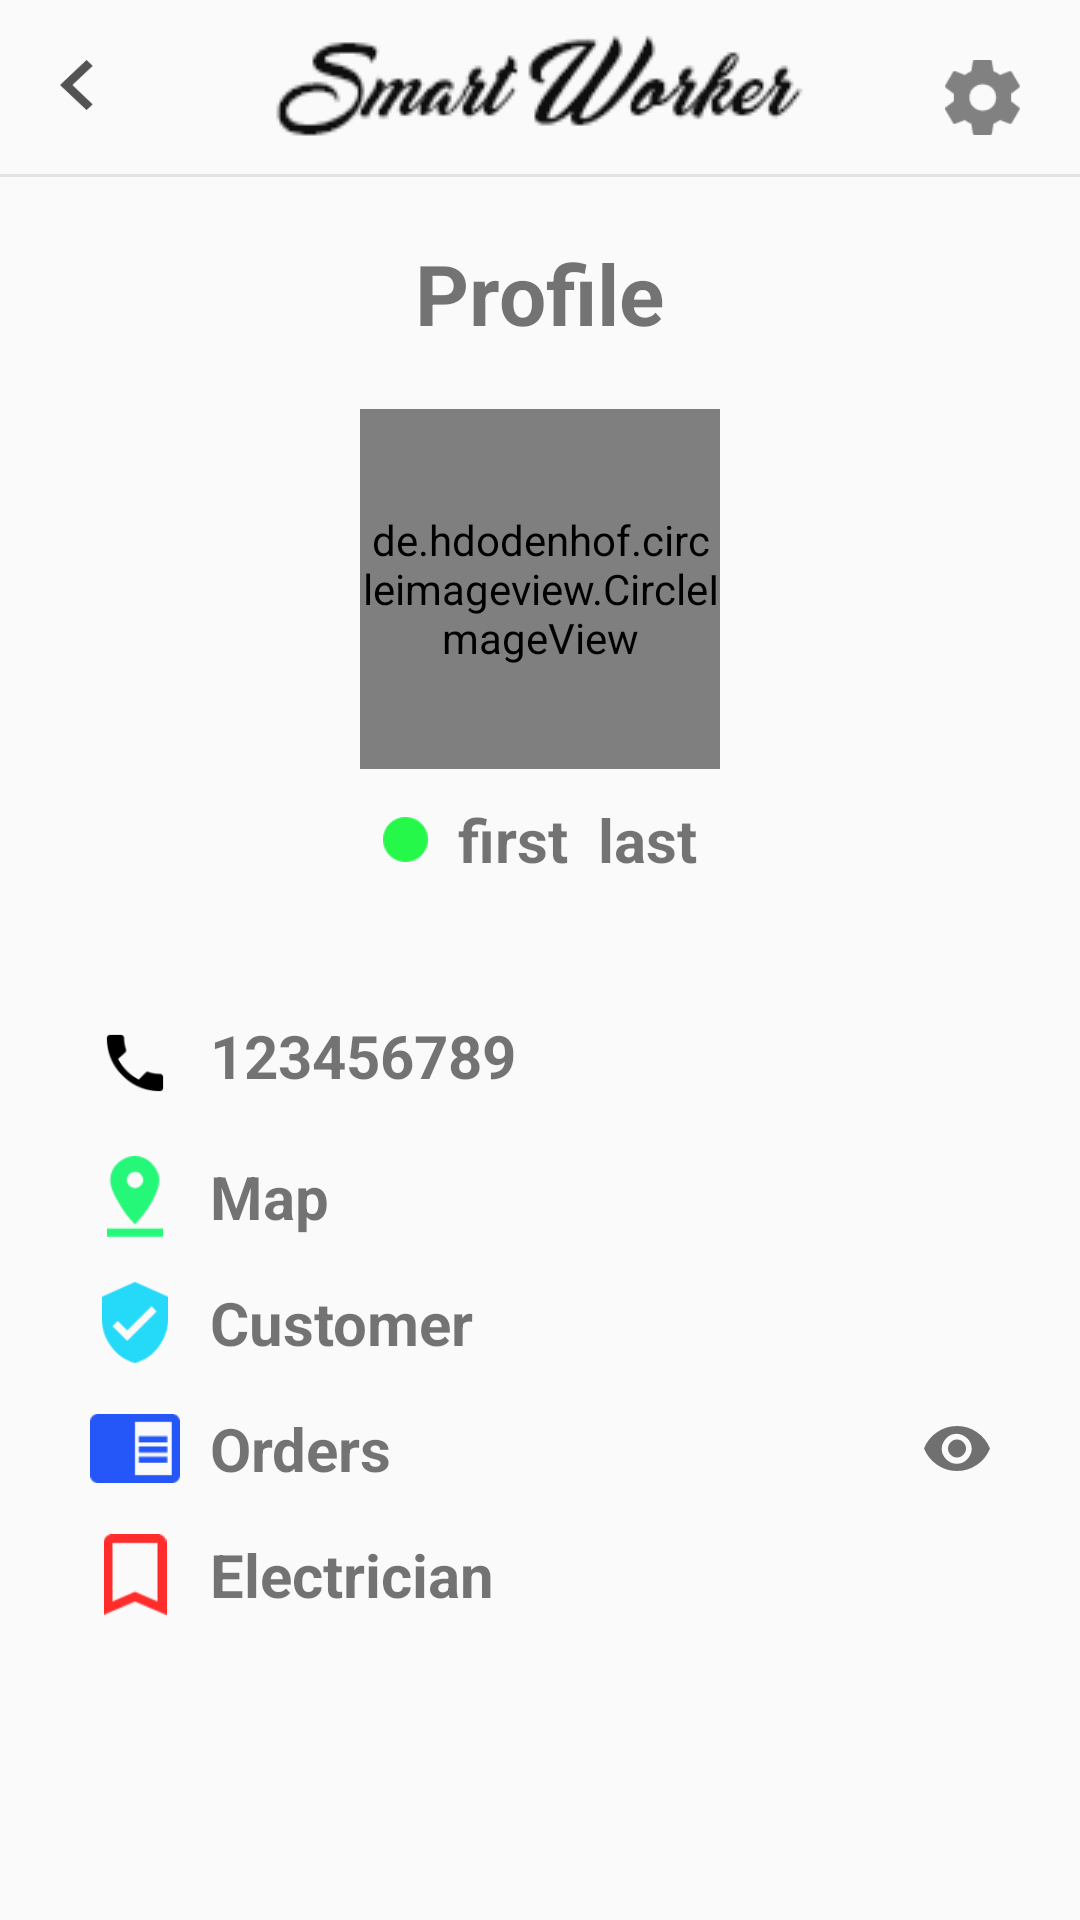

Icon bounding boxes for this 1080w x 1920h phone screenshot, format [x1, y1, x2, y2]:
back: [60, 60, 93, 110]
membership: [102, 1282, 168, 1363]
phone: [106, 1034, 164, 1092]
setting: [945, 60, 1020, 135]
